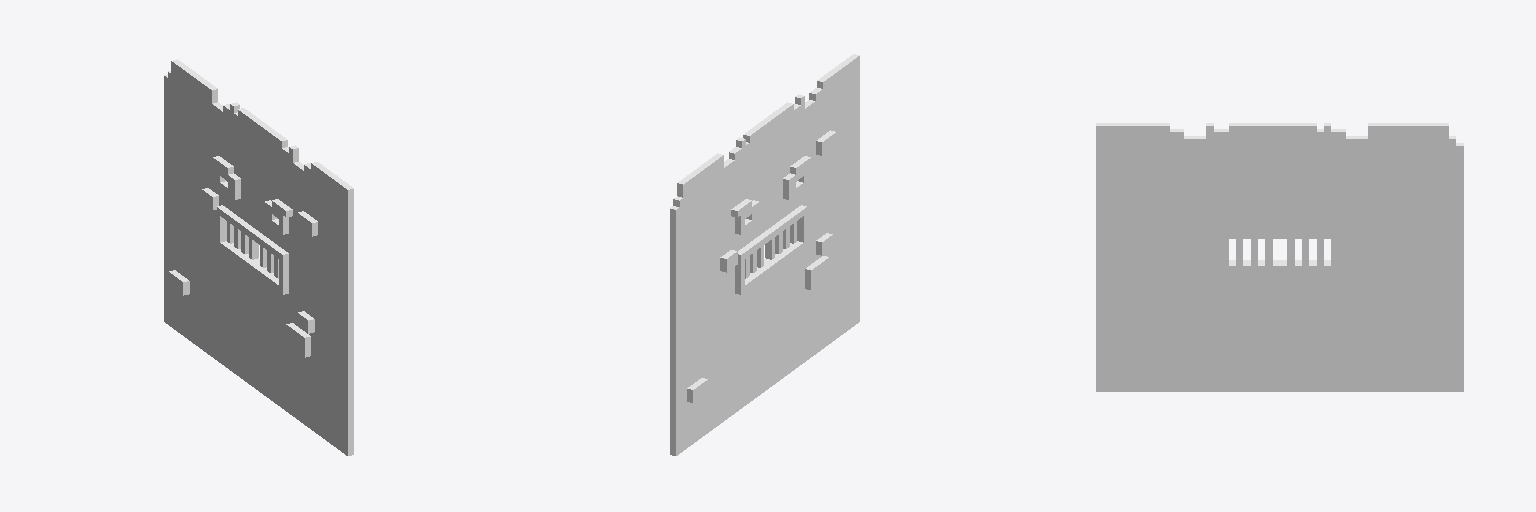
File: Desert-33-Wall_Monster.obj
3 views of the same model, side by side, from view 1: azimuth 30°, elevation 25°; view 2: azimuth 150°, elevation 25°; view 3: azimuth 270°, elevation 25° (orthographic).
Parts seen in each view (by area): view 1: Wall_Monster; view 2: Wall_Monster; view 3: Wall_Monster.
Boxes of the visible parts, x1=… form: Wall_Monster: x1=164, y1=59, x2=353, y2=455; Wall_Monster: x1=670, y1=54, x2=859, y2=455; Wall_Monster: x1=1096, y1=123, x2=1463, y2=391.
Size of the model in its own units: 0.2 by 4 by 5.